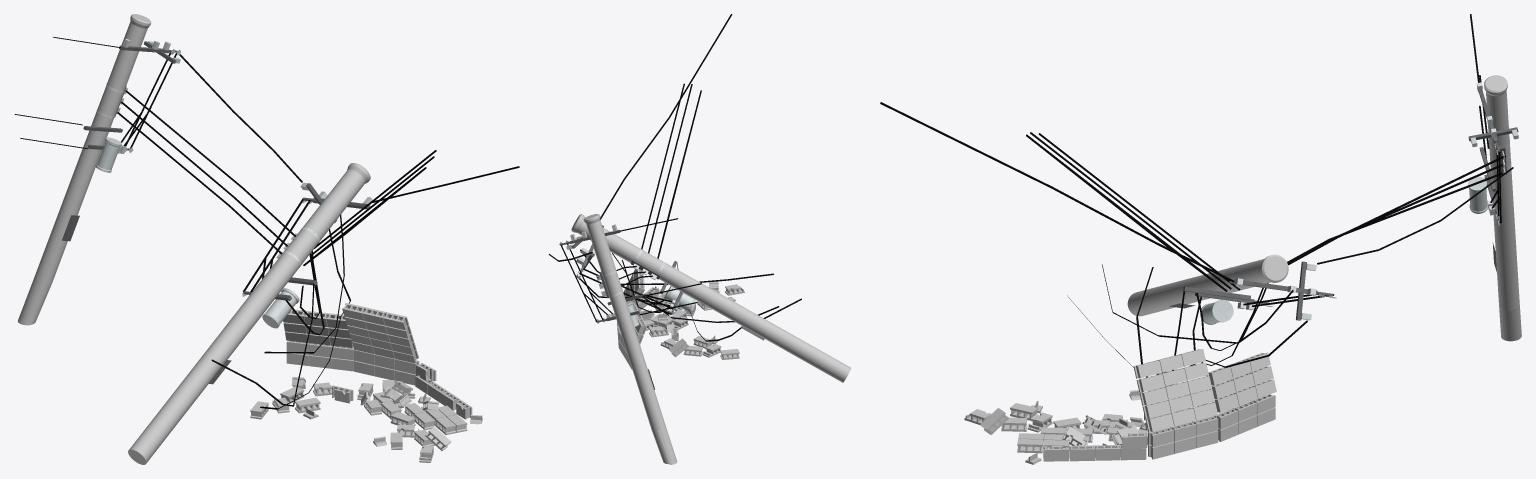
3 renders of one model, left to right at view 1: azimuth 30°, elevation 25°; view 2: azimuth 150°, elevation 25°; view 3: azimuth 270°, elevation 25°, orthographic. The views are drawn at different scales.
Parts seen in each view (by area): view 1: Cylinder, Cylinder.003_Cylinder.001, Cube.051, Cylinder.004, Cube.025, Cylinder.001_Cylinder.002, Cube.038, Cube.040, Cube.043, Cube.039, Cube.017, Cube.033 (+12 smaller); view 2: Cylinder, Cylinder.003_Cylinder.001, Cube.025, Cylinder.001_Cylinder.002, Cylinder.004, Cube.028, Cube.055_Cube.054, Cube.023, Cylinder.002_Cylinder.003, Cube.030; view 3: Cylinder.003_Cylinder.001, Cylinder, Cube.025, Cylinder.001_Cylinder.002, Cube.051, Cylinder.004, Cube.020, Cube.033, Cube.028, Cube.036, Cube.038, Cube.037 (+10 smaller).
Part boxes in pixels (x1,y1,x2,y2): Cylinder: (128,163,370,464); Cylinder.003_Cylinder.001: (18,14,151,325); Cube.051: (117,90,295,254); Cylinder.004: (62,39,180,241); Cube.025: (303,150,436,265); Cylinder.001_Cylinder.002: (209,182,372,384); Cube.038: (342,303,408,330); Cube.040: (286,340,354,360); Cube.043: (283,309,347,329); Cube.039: (286,353,354,371); Cube.017: (414,412,467,434); Cube.033: (354,349,419,374); Cylinder: (571,214,851,382); Cylinder.003_Cylinder.001: (583,214,677,464); Cube.025: (641,83,701,258); Cylinder.001_Cylinder.002: (576,225,764,340); Cylinder.004: (559,224,654,389); Cube.028: (600,14,732,219); Cube.055_Cube.054: (560,244,612,321); Cube.023: (579,268,673,314); Cylinder.002_Cylinder.003: (664,286,696,312); Cube.030: (578,278,801,322); Cylinder.003_Cylinder.001: (1484,75,1521,341); Cylinder: (1127,254,1288,316); Cube.025: (1026,132,1240,291); Cylinder.001_Cylinder.002: (1169,261,1336,320); Cube.051: (1287,155,1506,265); Cylinder.004: (1468,82,1518,271); Cube.020: (1069,445,1146,461); Cube.033: (1148,416,1218,447); Cube.028: (880,102,1234,282); Cube.036: (1139,376,1211,405); Cube.038: (1133,349,1205,378); Cube.037: (1136,362,1208,392).
Size of the model in its own units: 6.83 by 6.91 by 11.33.
